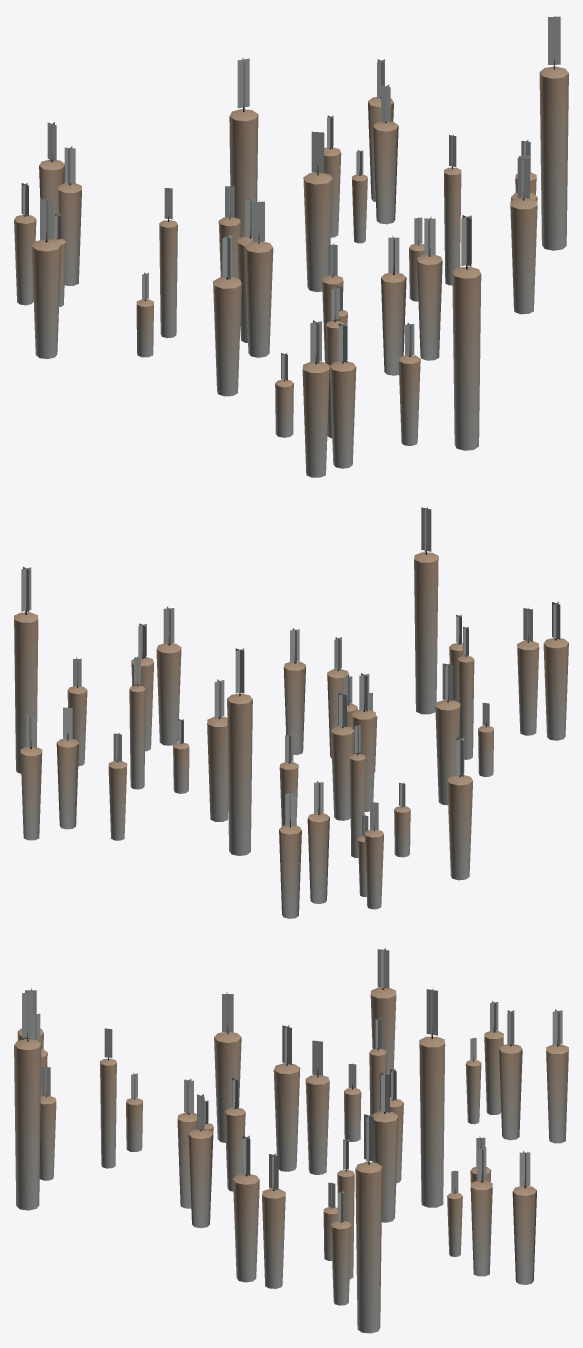
The picture shows the model from 3 angles, top to bottom: view 1: azimuth 30°, elevation 25°; view 2: azimuth 150°, elevation 25°; view 3: azimuth 270°, elevation 25°; orthographic projection. The views are drawn at different scales.
Visible parts, largest first — view 1: G:\FFXIV-MapTools\exports\n4f5\bg\ex3\01_nvt_n4\fld\n4f5\bgp (×2); view 2: G:\FFXIV-MapTools\exports\n4f5\bg\ex3\01_nvt_n4\fld\n4f5\bgp (×2); view 3: G:\FFXIV-MapTools\exports\n4f5\bg\ex3\01_nvt_n4\fld\n4f5\bgp (×2).
Boxes of the visible parts, x1,y1,x2,y2 form: G:\FFXIV-MapTools\exports\n4f5\bg\ex3\01_nvt_n4\fld\n4f5\bgp (×2): (14, 15, 568, 477); G:\FFXIV-MapTools\exports\n4f5\bg\ex3\01_nvt_n4\fld\n4f5\bgp (×2): (14, 507, 568, 918); G:\FFXIV-MapTools\exports\n4f5\bg\ex3\01_nvt_n4\fld\n4f5\bgp (×2): (14, 948, 568, 1333).
Bounding box in the file's own units: 2.02 × 0.8429 × 1.99.
